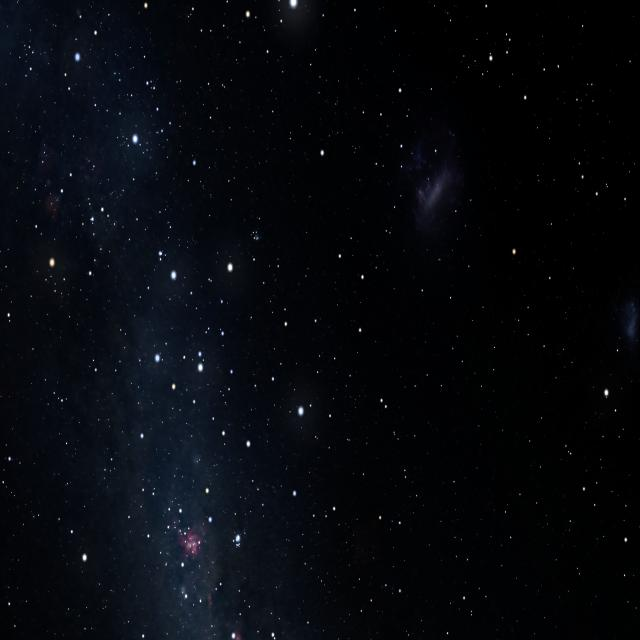Volans: (263, 247, 372, 391)
